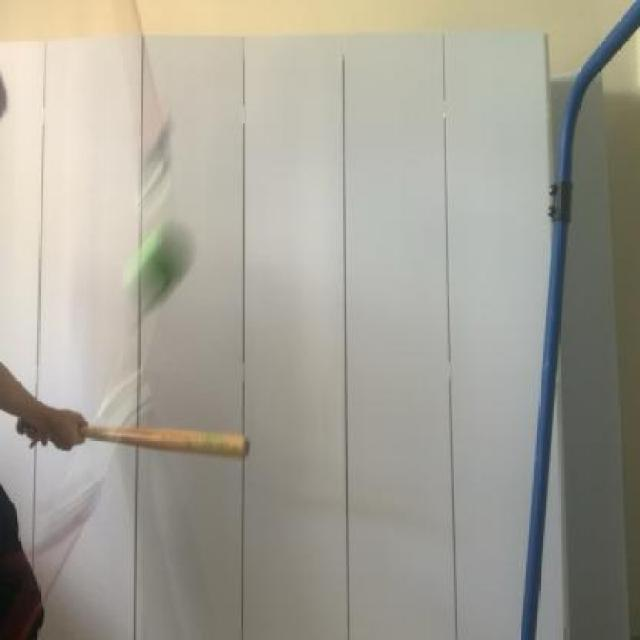baseball: (114, 200, 220, 332)
